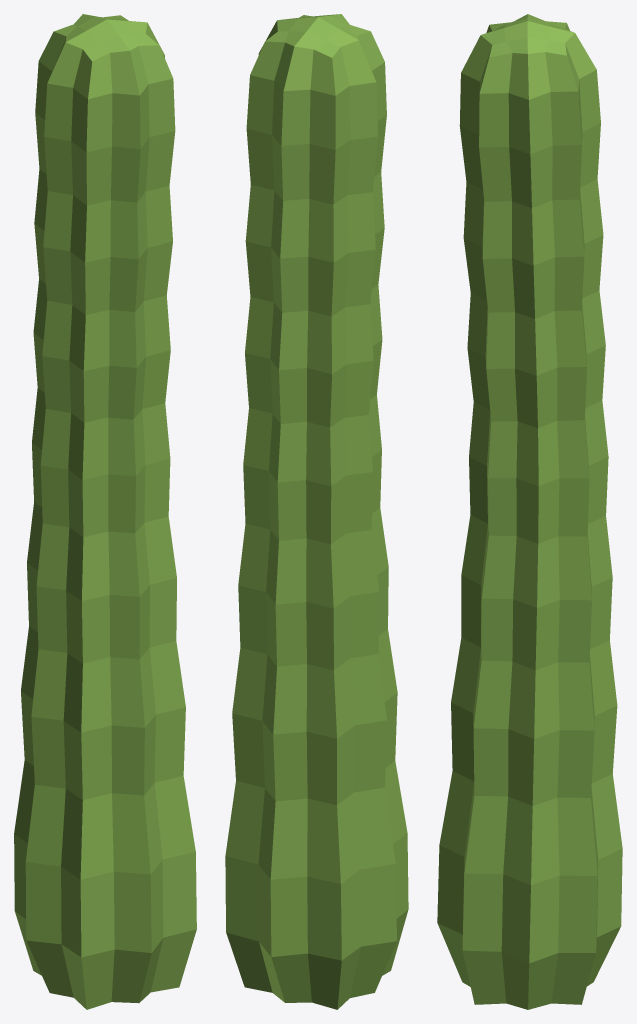
The model's file is cactus_02.glb.
The picture shows the model from 3 angles, left to right: view 1: azimuth 30°, elevation 25°; view 2: azimuth 150°, elevation 25°; view 3: azimuth 270°, elevation 25°; orthographic projection.
Parts seen in each view (by area): view 1: cactus_3.005; view 2: cactus_3.005; view 3: cactus_3.005.
Boxes of the visible parts, x1=… form: cactus_3.005: x1=14, y1=14, x2=196, y2=1009; cactus_3.005: x1=225, y1=14, x2=408, y2=1009; cactus_3.005: x1=437, y1=14, x2=622, y2=1009.
Size of the model in its own units: 0.3107 by 1.79 by 0.313.
